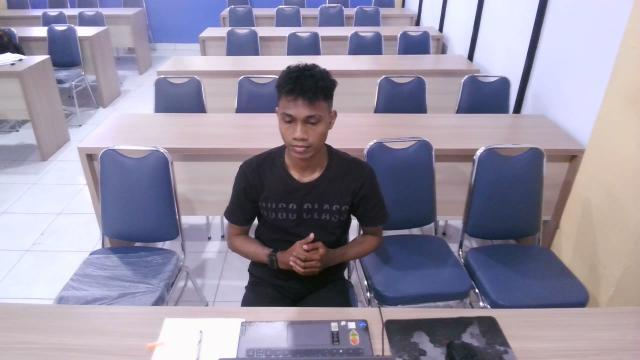Normal_Focus: (204, 51, 398, 355)
